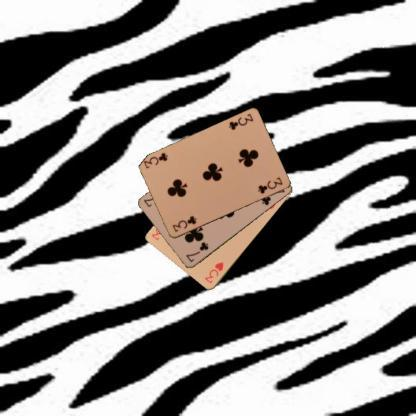3c: (225, 112, 254, 132), (170, 214, 198, 234)
3h: (202, 259, 225, 285)
7c: (184, 239, 209, 264)
